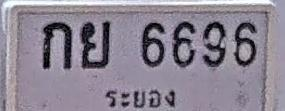6: (172, 20, 195, 68), (234, 20, 256, 66), (142, 22, 164, 66)
9: (202, 20, 226, 68)
A01: (42, 21, 72, 69)
A34: (80, 20, 111, 68)
RYG: (101, 84, 183, 111)
